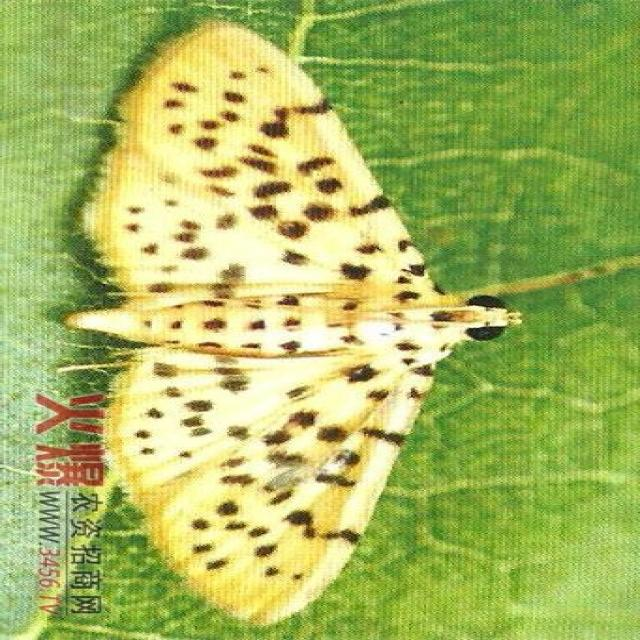peach borer: (43, 11, 527, 631)
